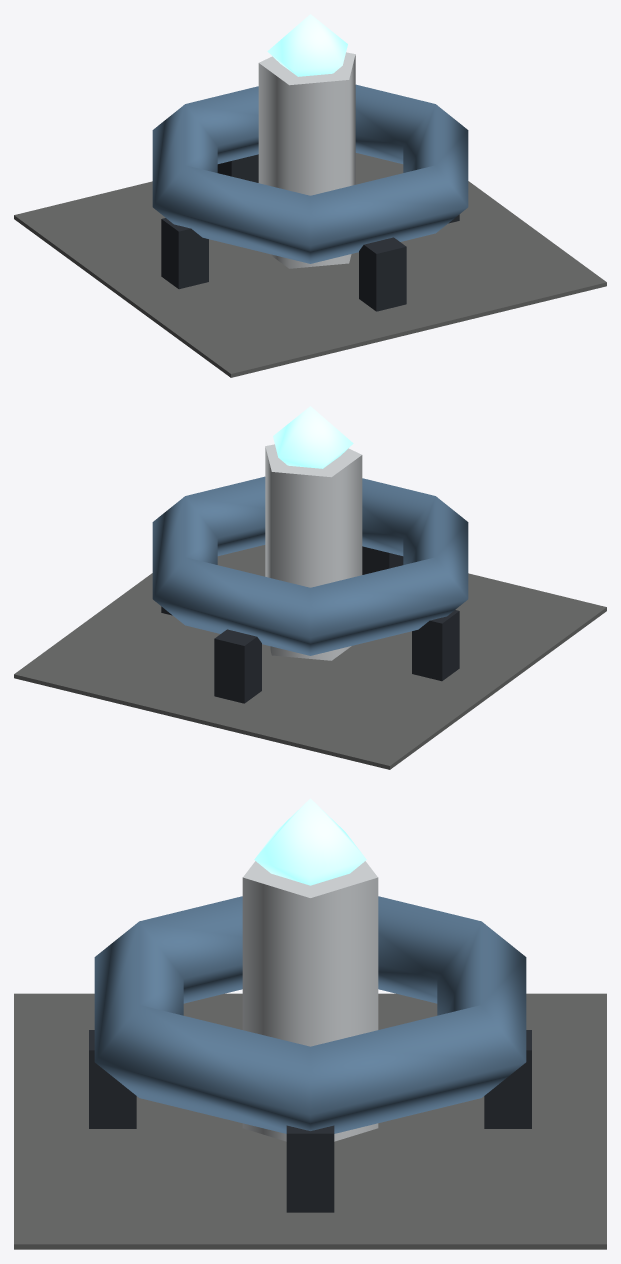
The model's file is bld_special_power_plant_a09_lod2.glb.
3 renders of one model, top to bottom at view 1: azimuth 30°, elevation 25°; view 2: azimuth 150°, elevation 25°; view 3: azimuth 270°, elevation 25°, orthographic. The views are drawn at different scales.
Parts seen in each view (by area): view 1: body; view 2: body; view 3: body.
Part boxes in pixels (x1,y1,x2,y2): body: (14,14,606,377); body: (14,406,606,769); body: (14,798,606,1249).
Size of the model in its own units: 15 by 9.1 by 15.
